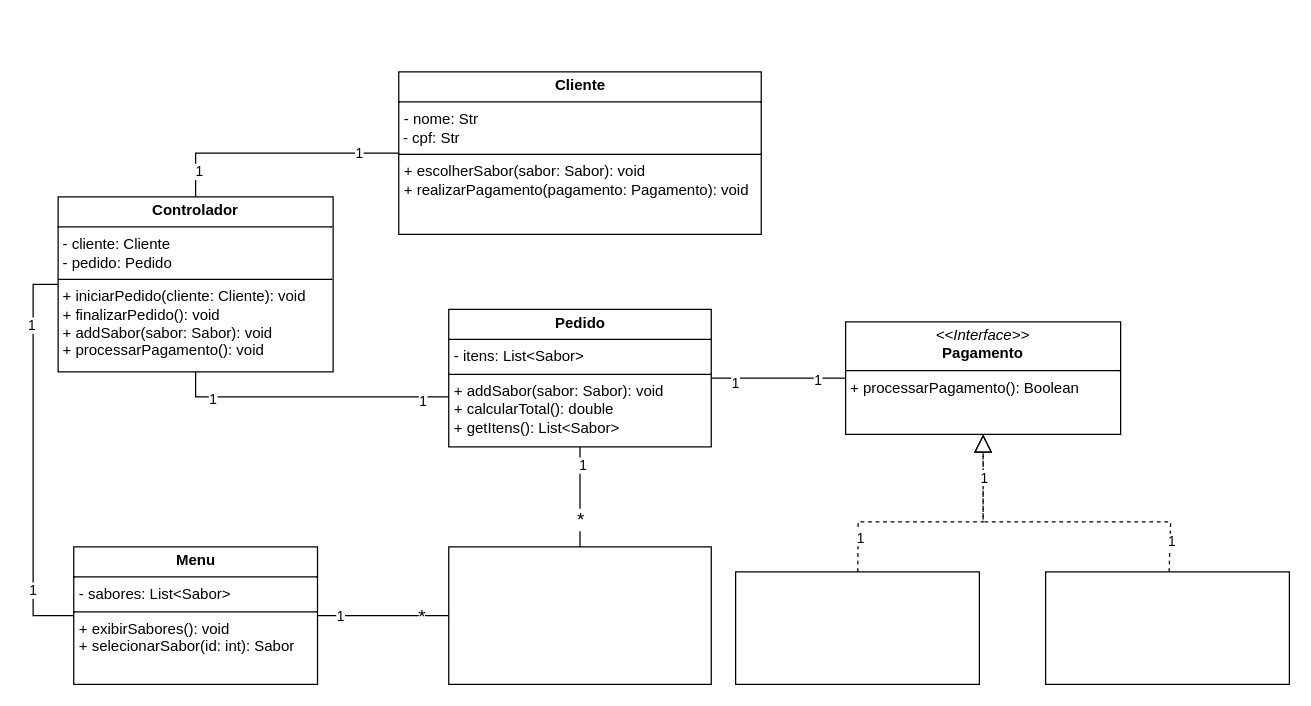
This 1311x706 diagram has some shape labels left out. Here are the shapes that lost their labels. From the top down, the centre of each, then its label:
point 579,615: Sabor - nome: Str - preco: double + getNome(): Str + getPreco(): double
point 856,627: PagamentoDinheiro - valor: double + processarPagamento(): boolean
point 1166,627: PagamentoCartao - valor: double + processarPagamento(): boolean
